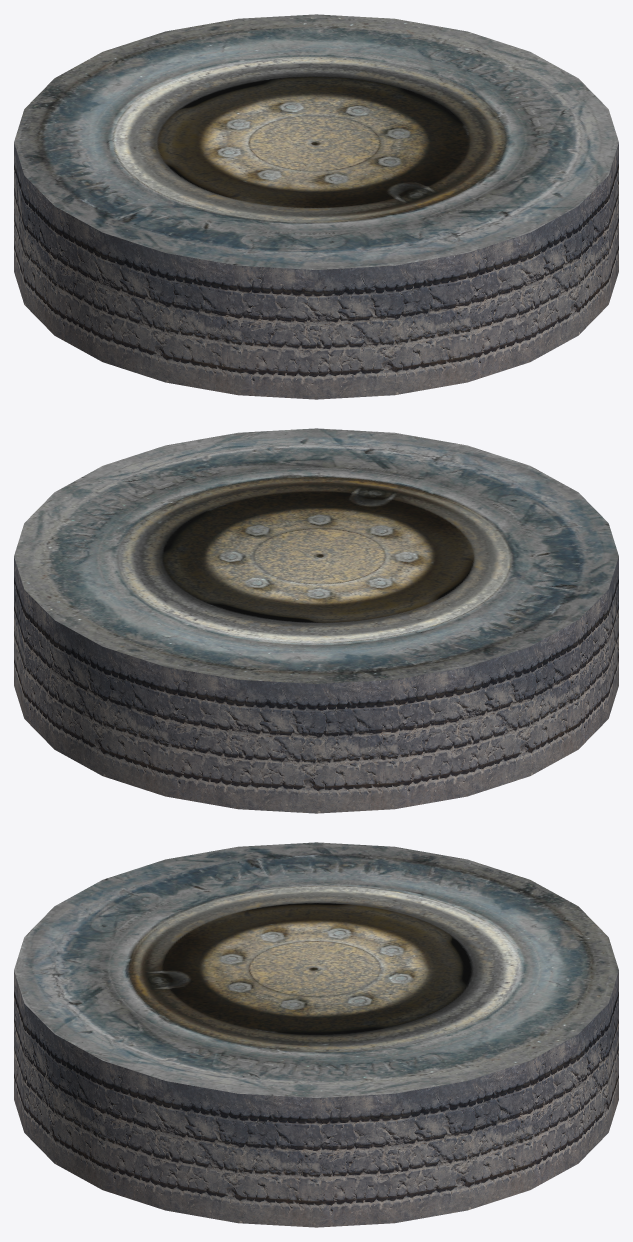
The model's file is wheel01-lod.fbx.
3 renders of one model, top to bottom at view 1: azimuth 30°, elevation 25°; view 2: azimuth 150°, elevation 25°; view 3: azimuth 270°, elevation 25°, orthographic.
Visible parts, largest first — view 1: Mesh; view 2: Mesh; view 3: Mesh.
Part boxes in pixels (x1,y1,x2,y2): Mesh: (14,14,618,399); Mesh: (14,428,618,813); Mesh: (14,842,618,1227).
Bounding box in the file's own units: 129 × 30.47 × 129.
